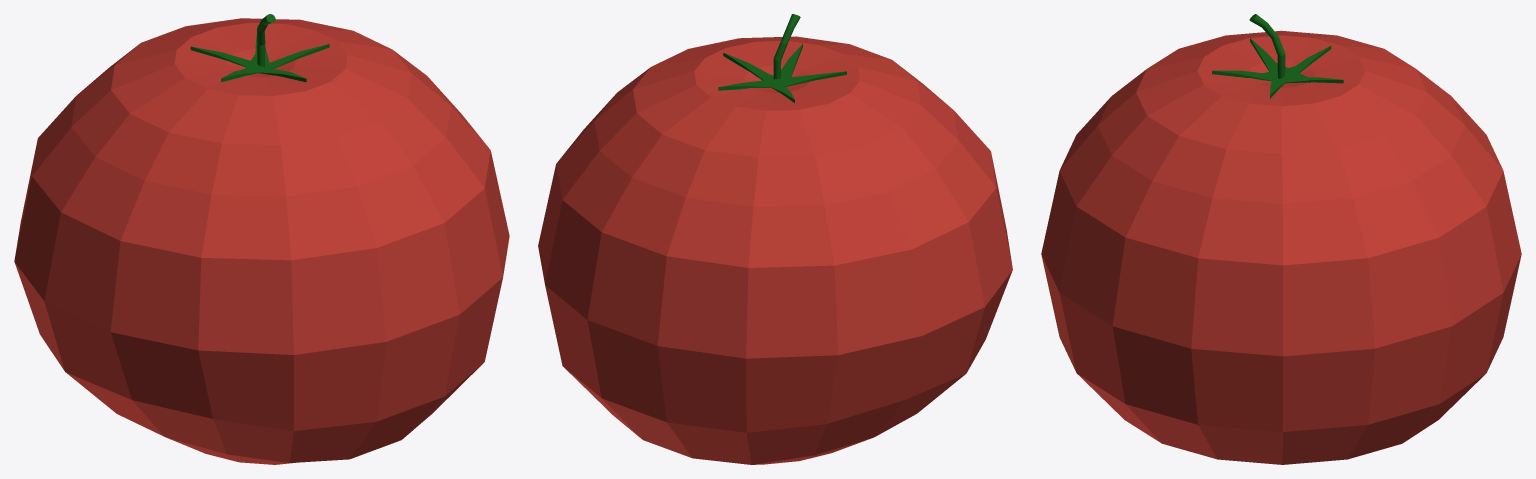
The model's file is Tomate.fbx.
The picture shows the model from 3 angles, left to right: view 1: azimuth 30°, elevation 25°; view 2: azimuth 150°, elevation 25°; view 3: azimuth 270°, elevation 25°; orthographic projection. The views are drawn at different scales.
Parts seen in each view (by area): view 1: Tomate; view 2: Tomate; view 3: Tomate.
Part boxes in pixels (bbox=[...]): Tomate: bbox=[14, 14, 509, 464]; Tomate: bbox=[538, 14, 1012, 464]; Tomate: bbox=[1041, 14, 1521, 464].
Size of the model in its own units: 20.06 by 18.74 by 20.
